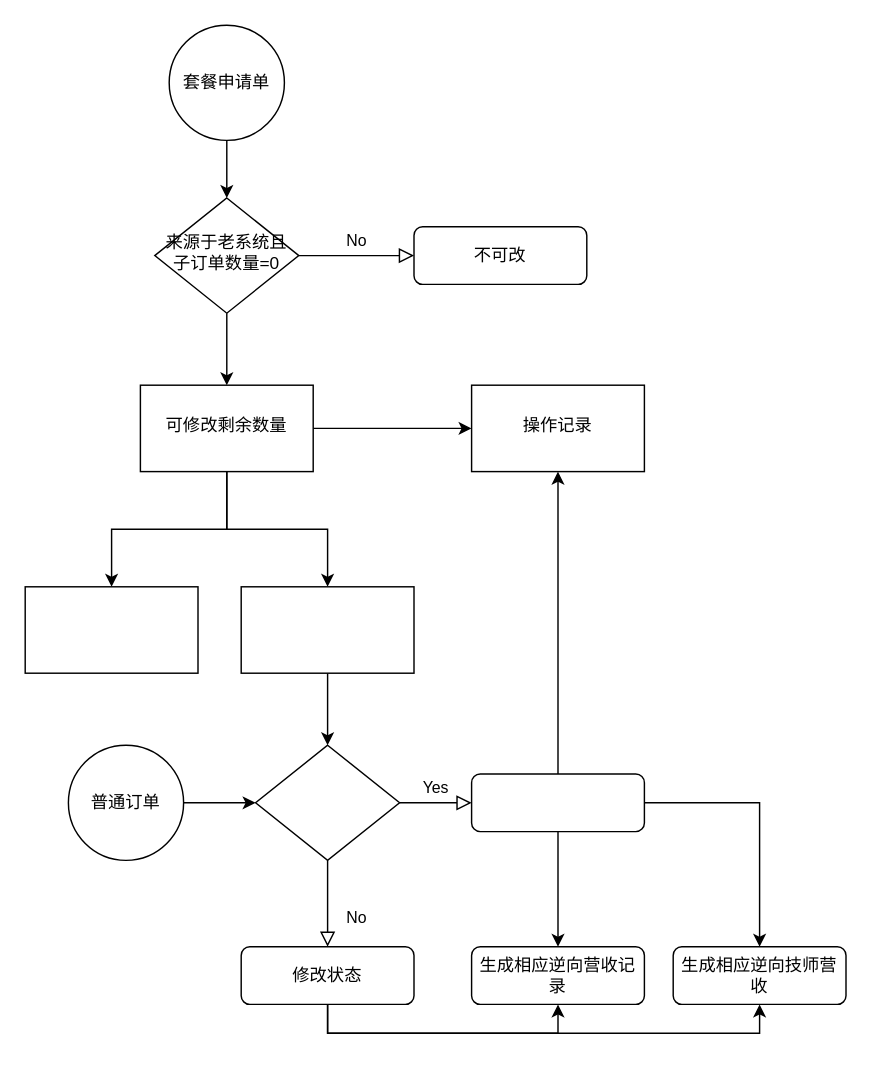
Some shapes in this 871 by 1070 pixel diagram are drawn without their labels. Each missing label, with the centre of its shape:
修改申请单状态: pixel 111 629
完成交易: pixel 327 802
显示变更状态按钮: pixel 557 802
生成子订单(已完成+未完成): pixel 327 629
